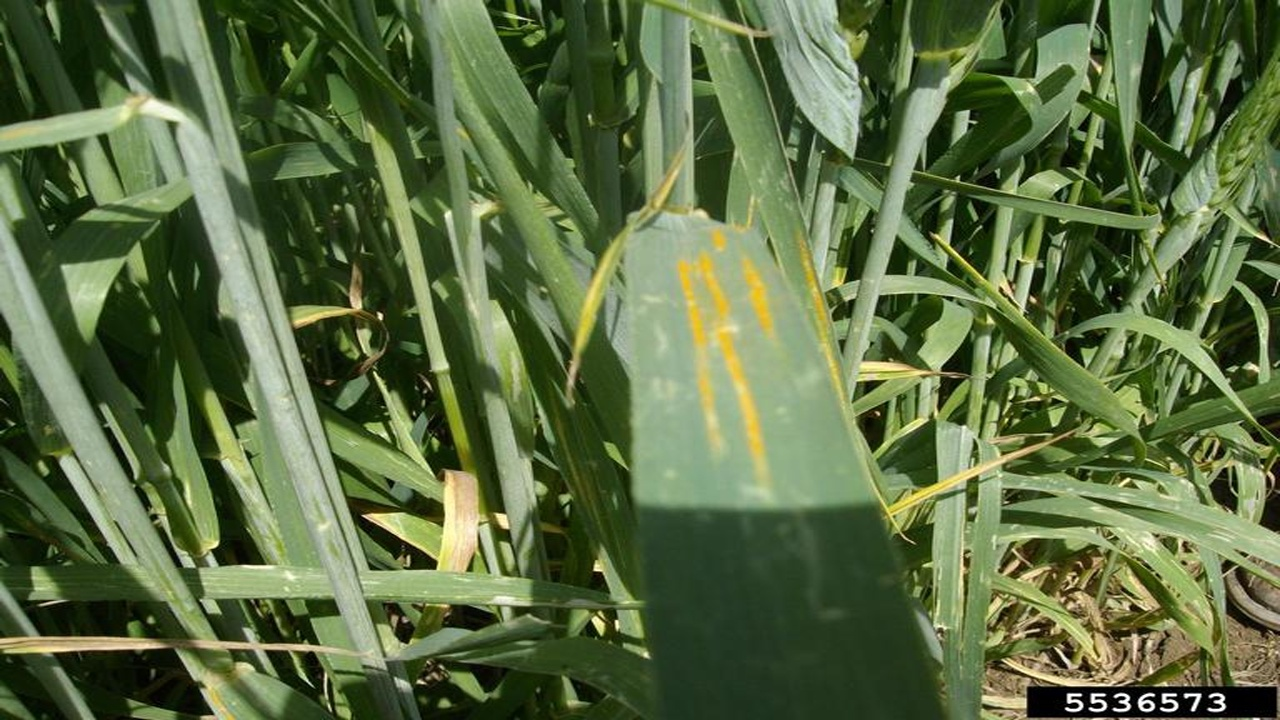stripe_rust: (625, 207, 940, 720)
